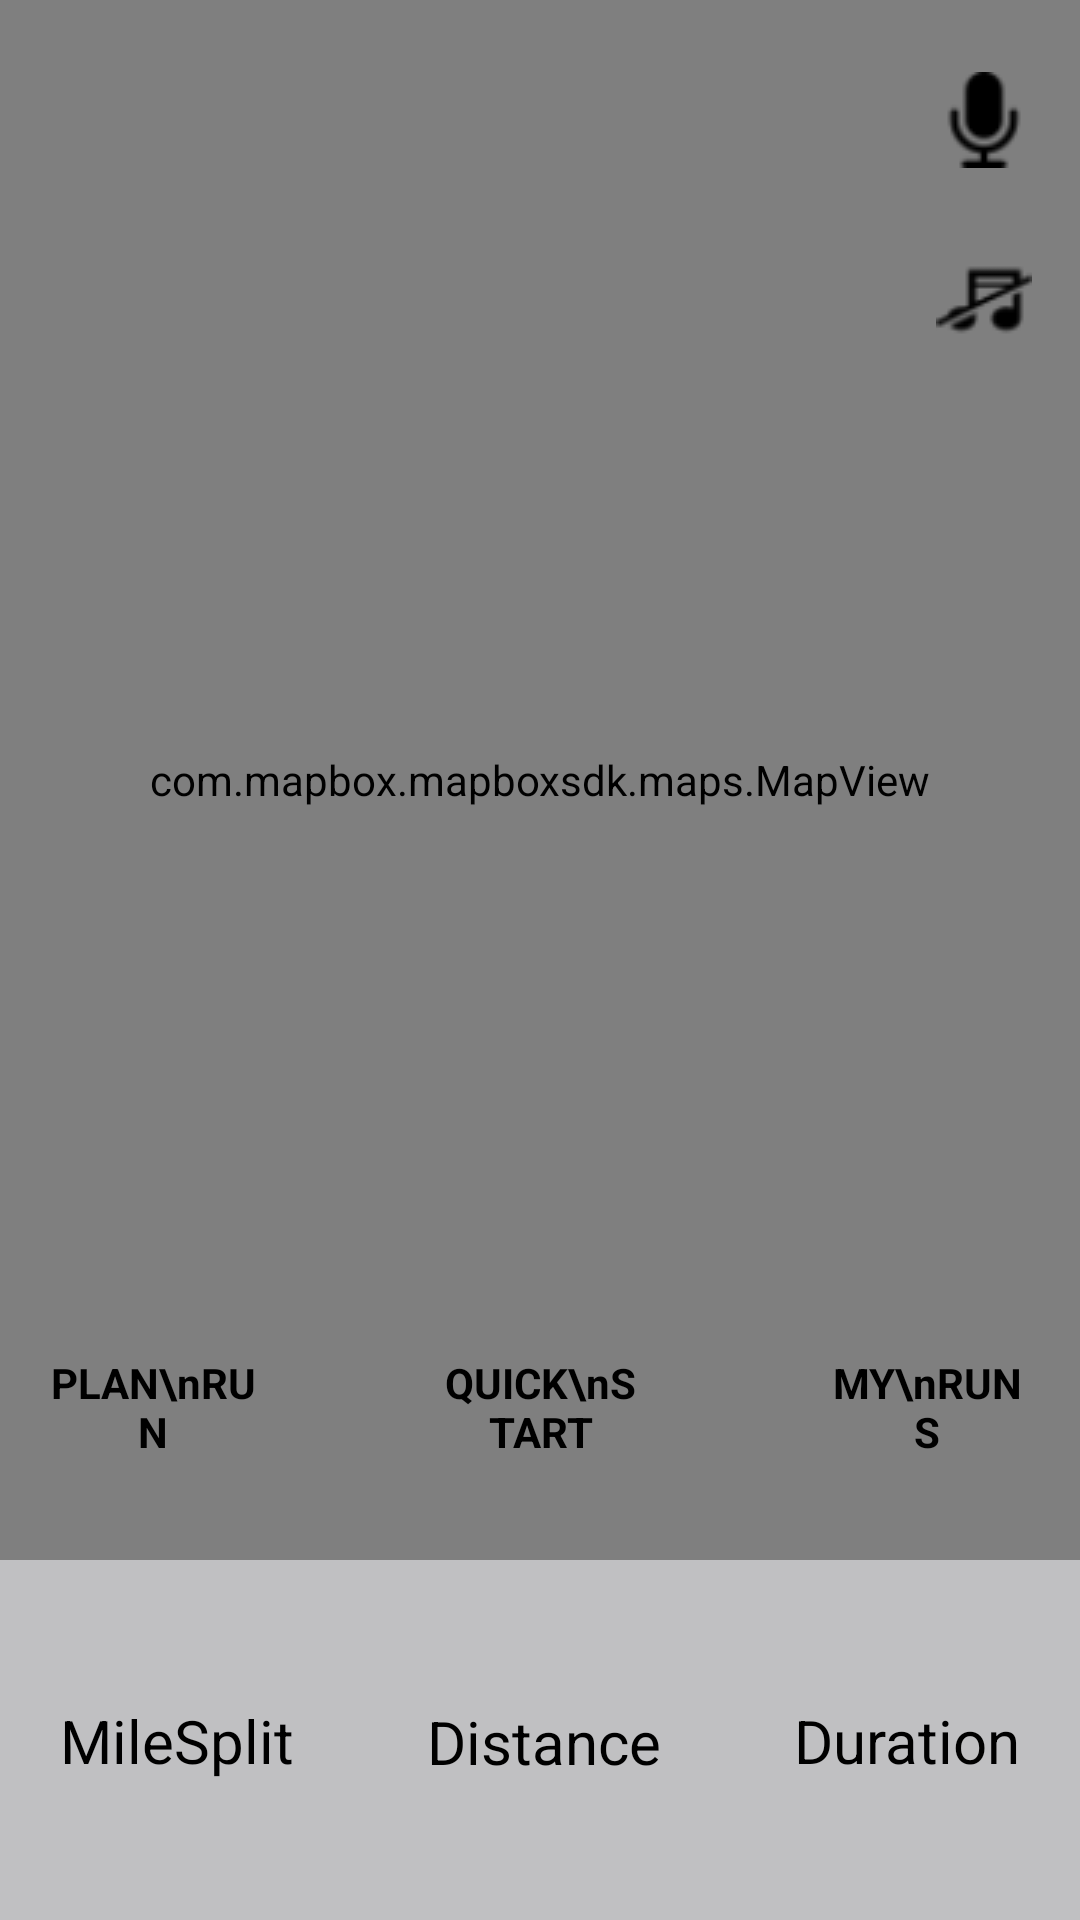

Icons on this 1080px x 1920px Android screen, each with its box as {"left": x1, "top": y1, "right": x2, "bottom": y2}:
music off: {"left": 936, "top": 268, "right": 1032, "bottom": 332}
voice on: {"left": 949, "top": 72, "right": 1019, "bottom": 168}
